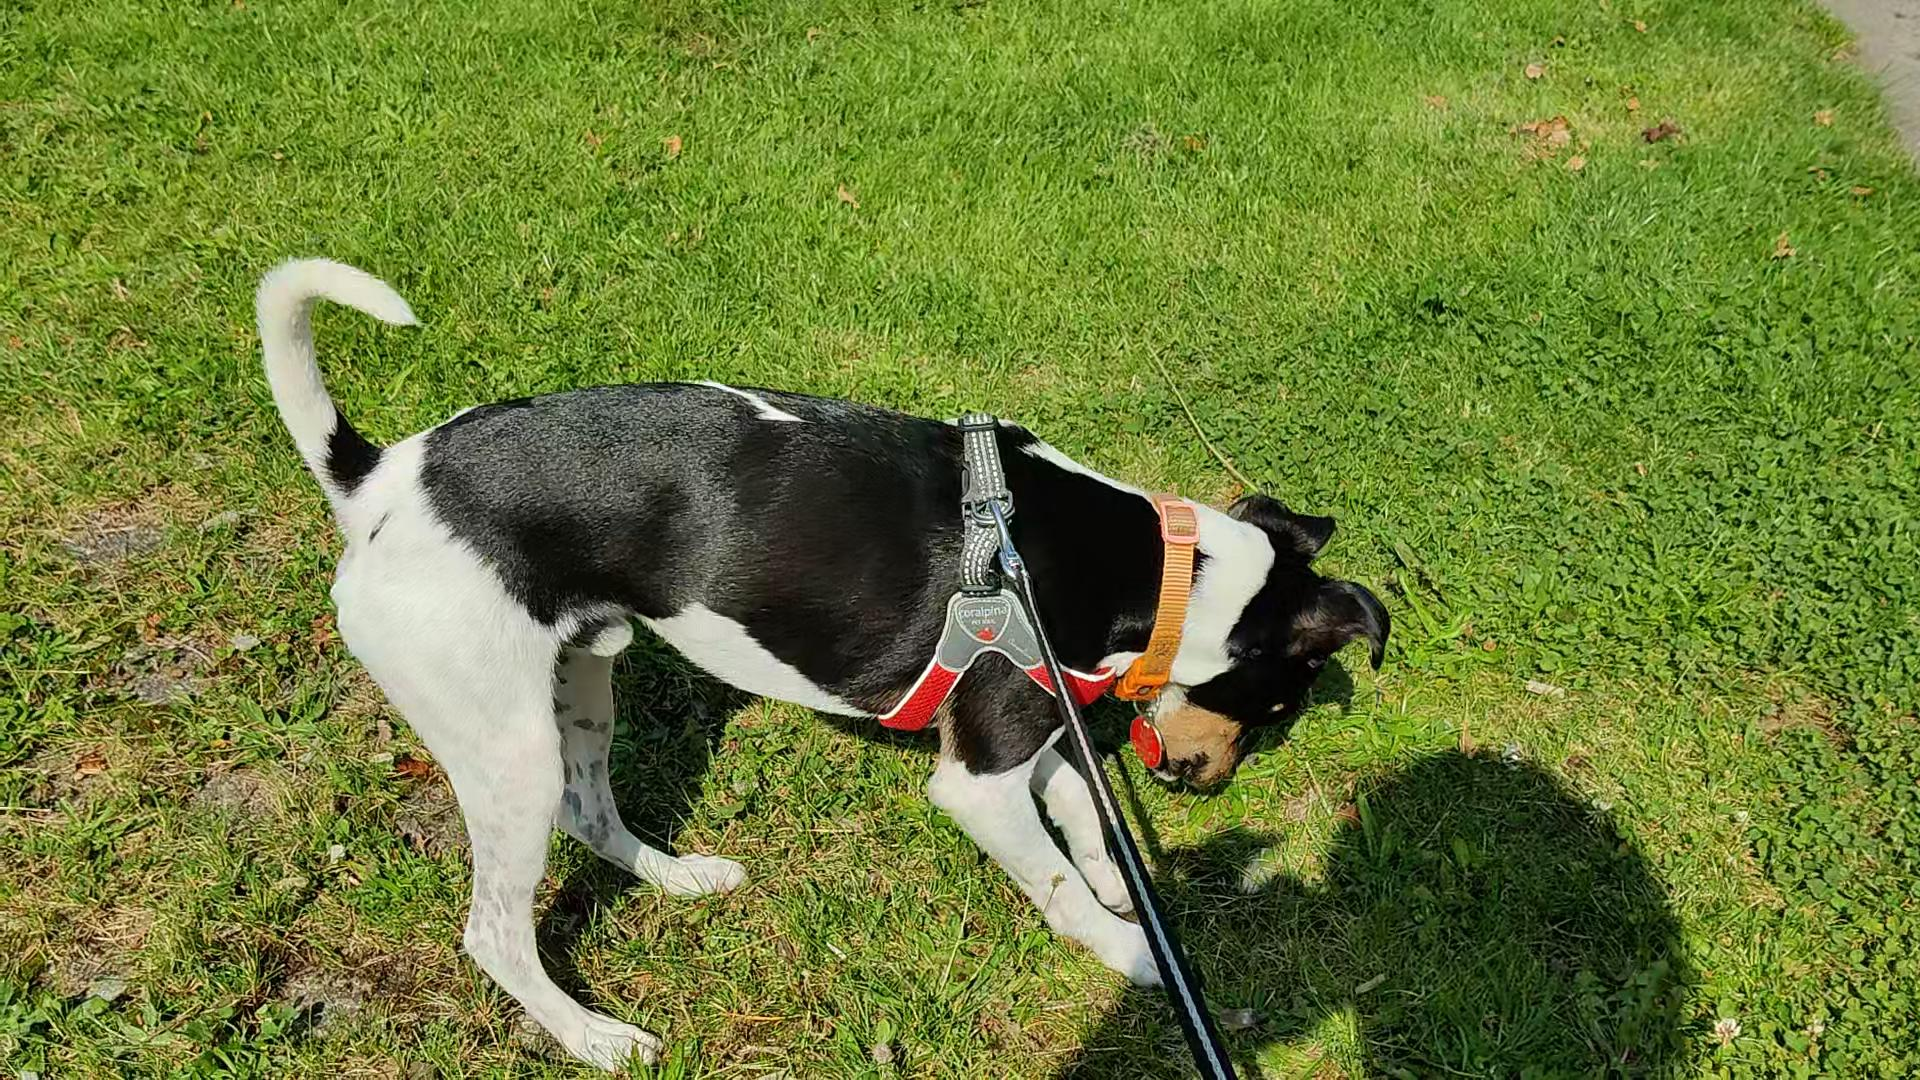Dog: (222, 237, 1400, 1069)
